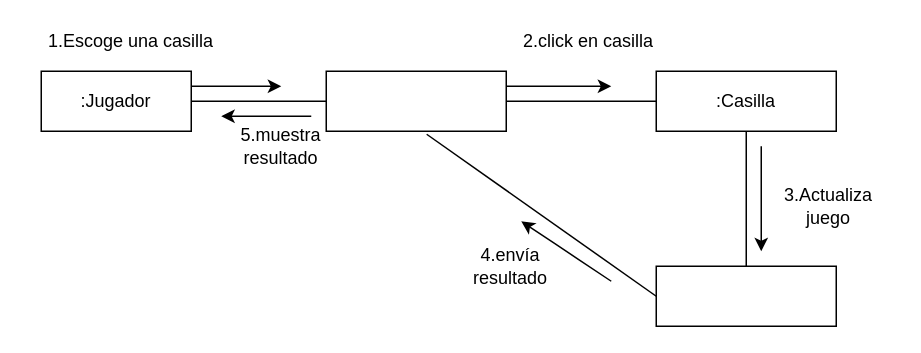
Image size: 921x353. Some labels were removed from this diagram. The shapes that lost their labels are listed below. From the top down, each one's box as (x1, y1, x2, y2) in pixels, then its label:
(325, 70, 506, 131): :Interfaz
(655, 265, 836, 326): :Actualiza
